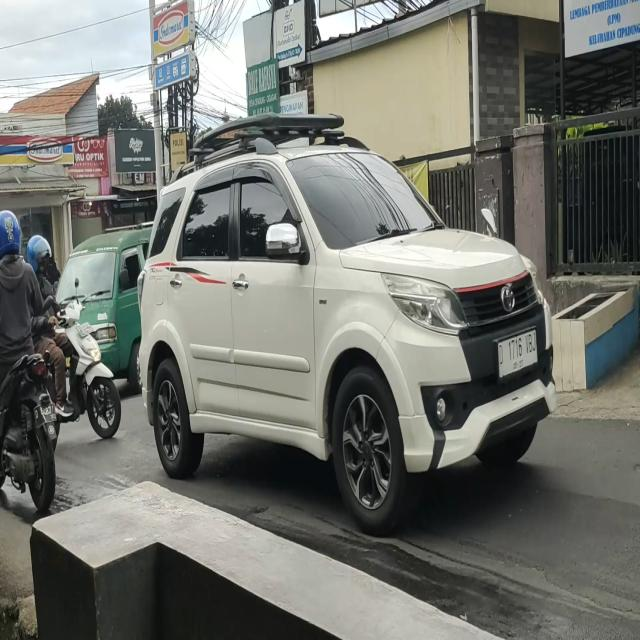helmet: (25, 234, 52, 276), (1, 212, 22, 261)
